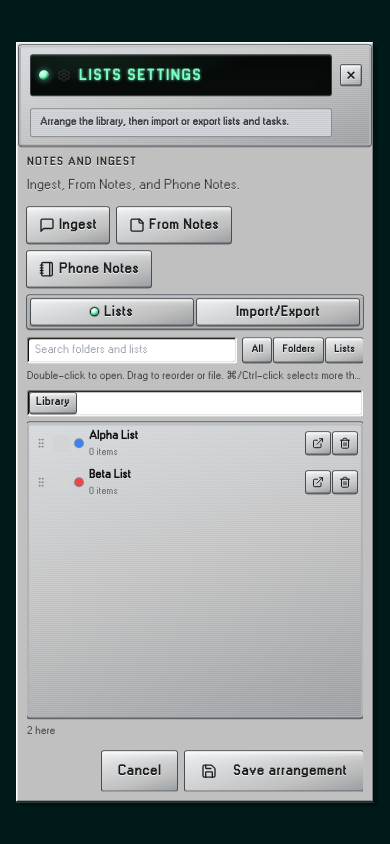
Test: NextActionsSettingsDialog › gives the import tab a scroll well
This screenshot has width=390, height=844.
Click the tab "Import/Export".
click(278, 312)  # box x1=197 y1=299 x2=359 y2=325
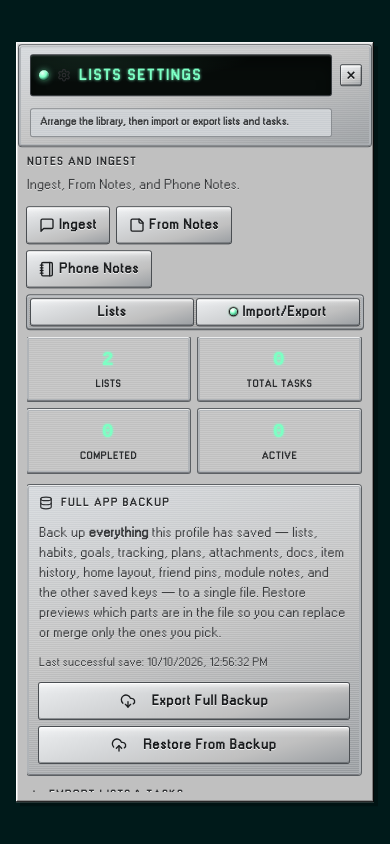
Expected: the panel with test id "lists-import" shows "Total Tasks", x1=247 y1=379 x2=312 y2=389
